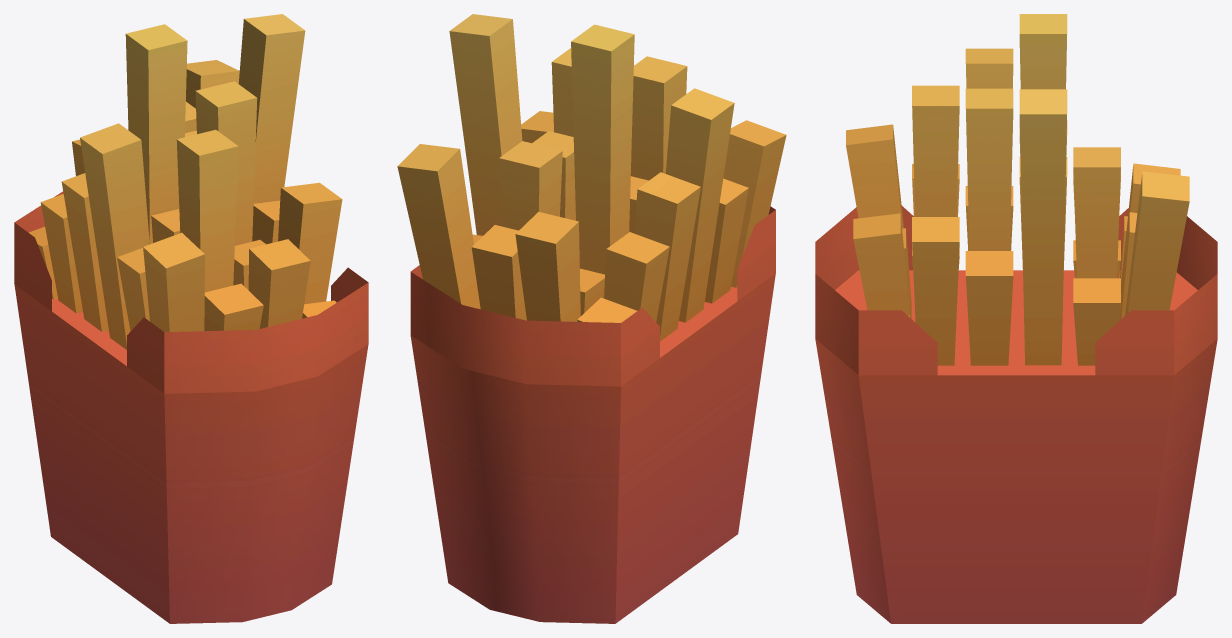
Rendered from fries.glb.
3 views of the same model, side by side, from view 1: azimuth 30°, elevation 25°; view 2: azimuth 150°, elevation 25°; view 3: azimuth 270°, elevation 25° (orthographic). The views are drawn at different scales.
Parts seen in each view (by area): view 1: fries (×2); view 2: fries (×2); view 3: fries (×2).
Boxes of the visible parts, x1,y1,x2,y2 form: fries (×2): (14, 14, 368, 623); fries (×2): (397, 14, 786, 623); fries (×2): (815, 14, 1217, 623).
Bounding box in the file's own units: 0.183 × 0.3977 × 0.2653.
1 material, 1 textured.
